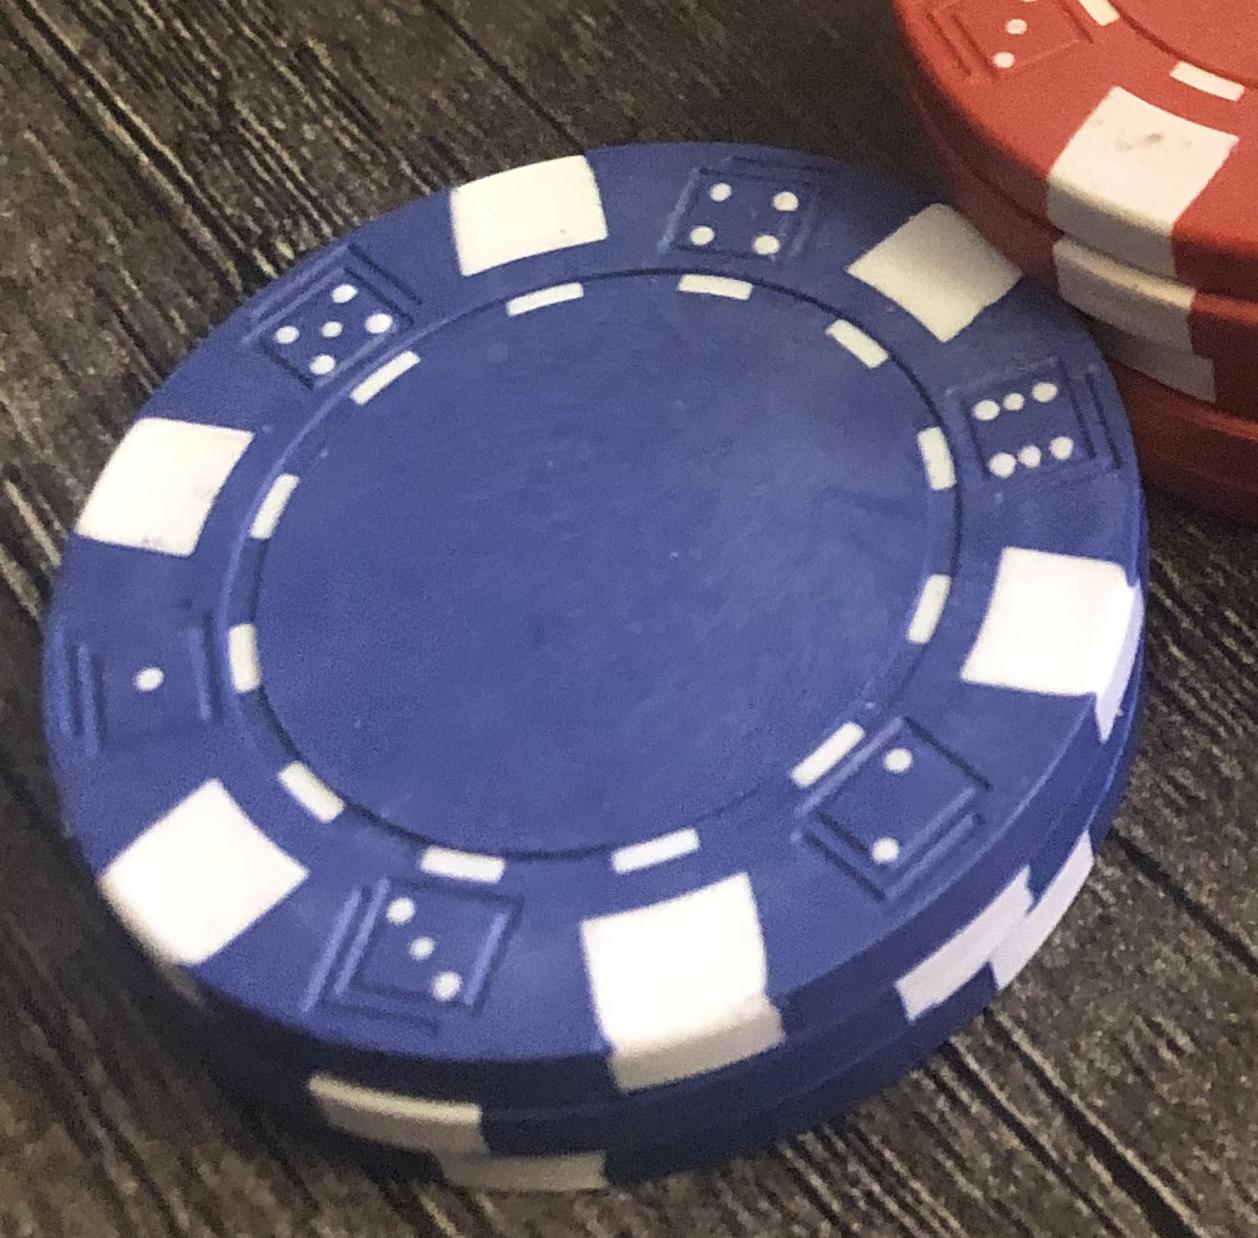Chip: (1, 1, 1258, 1238)
